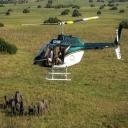helicopter: (26, 13, 126, 84)
